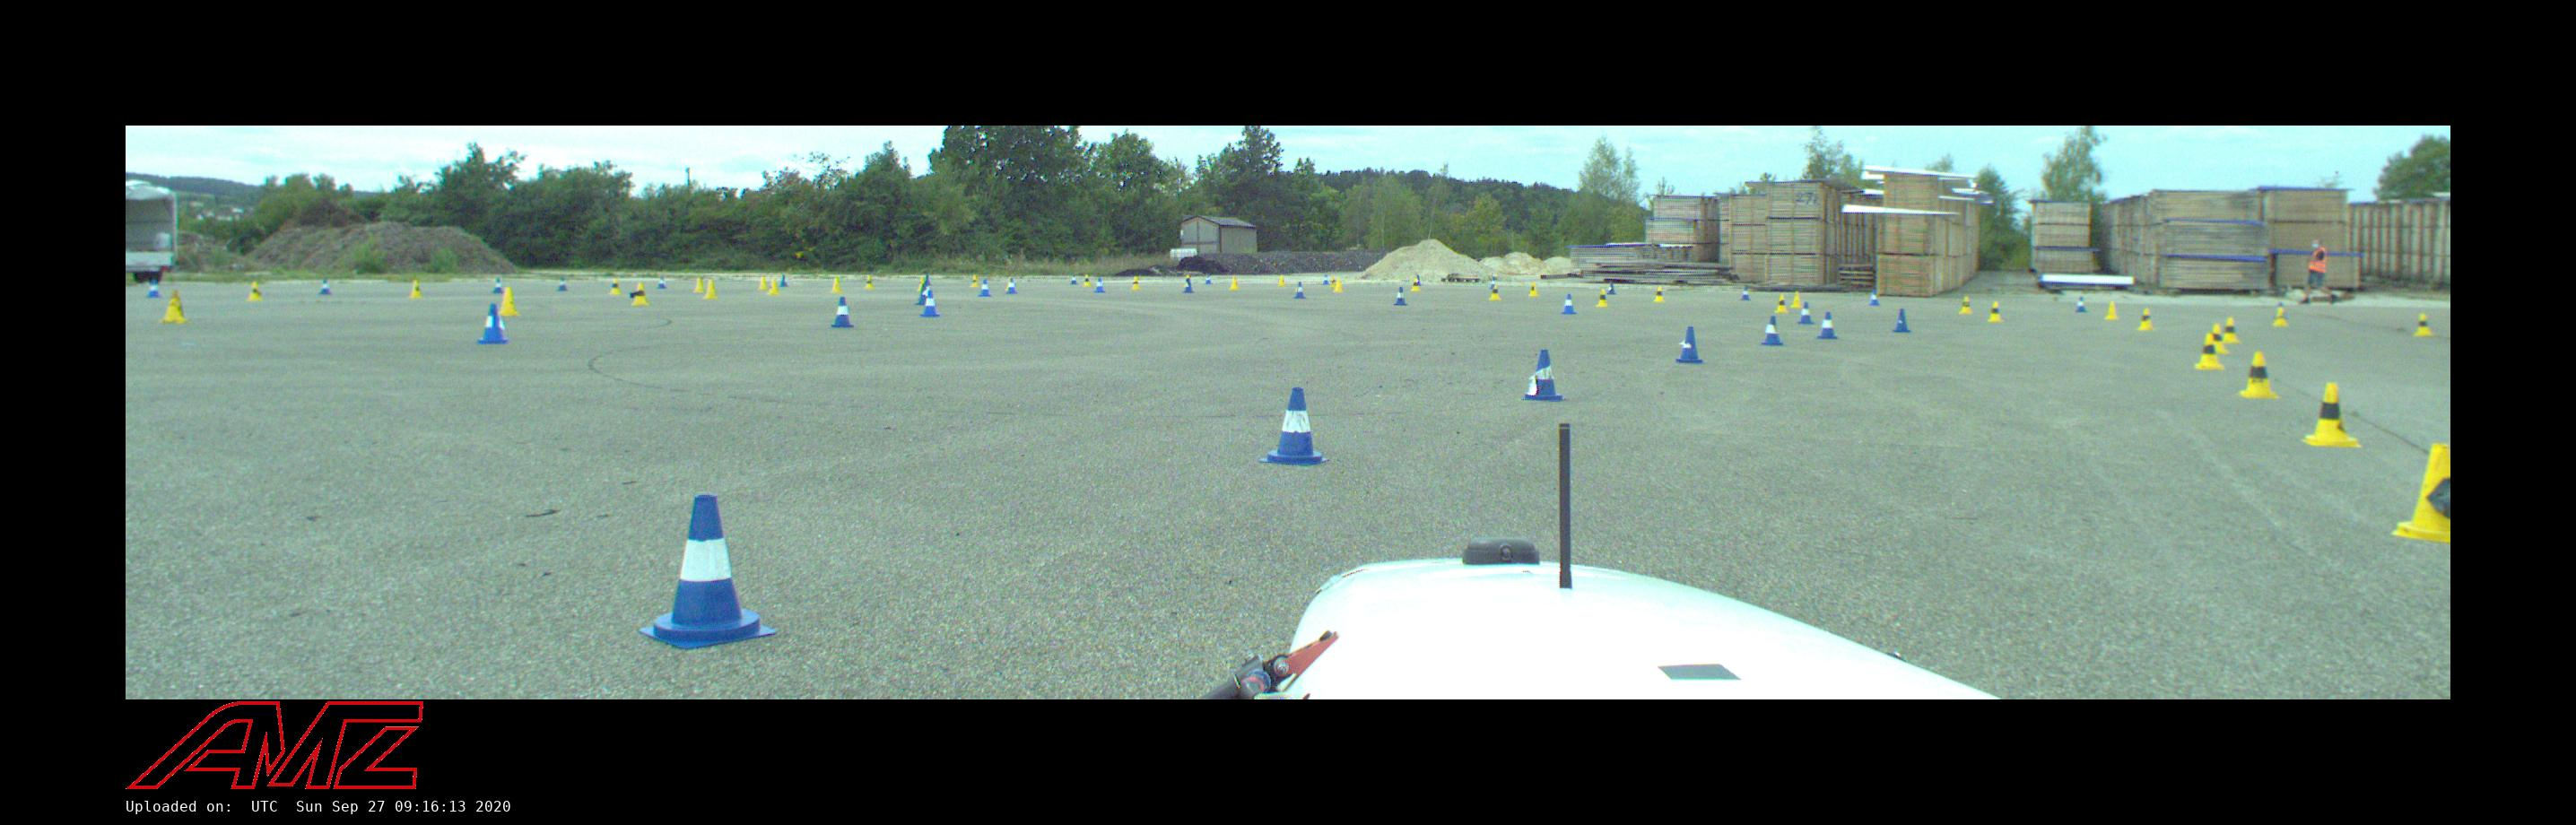blue_cone: (639, 495, 777, 649), (1260, 386, 1329, 465), (1520, 350, 1564, 401), (476, 304, 509, 342), (1674, 327, 1704, 365), (830, 297, 854, 329), (1761, 316, 1784, 347), (1815, 311, 1838, 339), (920, 289, 941, 317), (1891, 309, 1912, 332), (1559, 293, 1577, 316), (1796, 302, 1814, 324), (915, 283, 928, 306), (1393, 288, 1408, 306), (978, 279, 992, 297), (1005, 278, 1019, 294), (1868, 291, 1881, 306), (1295, 283, 1306, 299), (2075, 297, 2086, 312), (1094, 279, 1106, 293), (1740, 288, 1750, 301), (1184, 279, 1193, 293), (1607, 281, 1615, 294)
yellow_cone: (2394, 442, 2449, 544), (2300, 383, 2362, 447), (2239, 352, 2279, 398), (2193, 335, 2223, 368), (159, 291, 187, 324), (499, 288, 519, 316), (2211, 324, 2229, 353), (2413, 312, 2433, 335), (2223, 317, 2241, 342), (631, 283, 649, 306), (2137, 309, 2154, 330), (2272, 307, 2288, 325), (1988, 301, 2003, 320), (1958, 296, 1973, 314), (2105, 301, 2119, 319), (705, 279, 718, 299), (1774, 296, 1789, 312), (246, 283, 261, 299), (692, 278, 706, 293), (409, 281, 422, 297), (608, 278, 621, 294), (1597, 289, 1608, 307), (1791, 291, 1802, 307), (767, 279, 779, 296), (1653, 286, 1664, 301), (1488, 284, 1500, 299), (831, 278, 843, 293), (1334, 278, 1344, 293), (1230, 276, 1240, 291), (1528, 283, 1538, 296), (864, 276, 874, 288), (757, 278, 767, 289)
